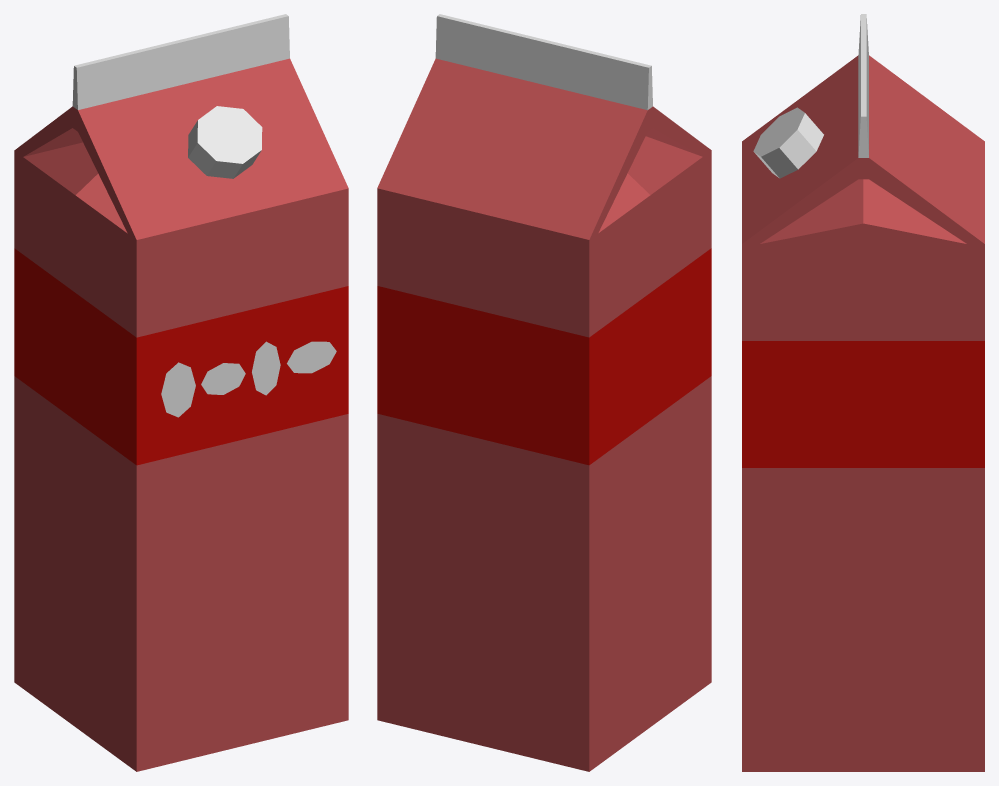
File: Ma_Juice_1.fbx
The picture shows the model from 3 angles, left to right: view 1: azimuth 30°, elevation 25°; view 2: azimuth 150°, elevation 25°; view 3: azimuth 270°, elevation 25°; orthographic projection.
Parts seen in each view (by area): view 1: Ma_Juice_1; view 2: Ma_Juice_1; view 3: Ma_Juice_1.
Part boxes in pixels (left/top/right/bottom): Ma_Juice_1: left=14, top=14, right=348, bottom=771; Ma_Juice_1: left=377, top=14, right=711, bottom=771; Ma_Juice_1: left=742, top=14, right=984, bottom=771.
Bounding box in the file's own units: 74.74 × 75.33 × 222.
